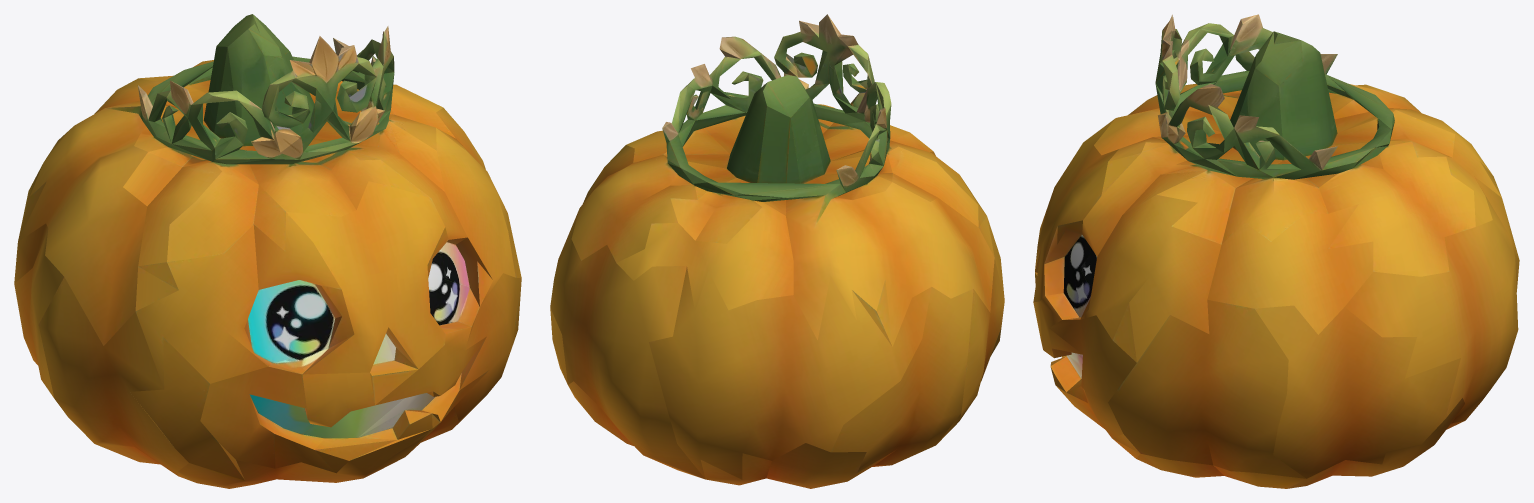
Rendered from magic_pumpkin.glb.
The picture shows the model from 3 angles, left to right: view 1: azimuth 30°, elevation 25°; view 2: azimuth 150°, elevation 25°; view 3: azimuth 270°, elevation 25°; orthographic projection. The views are drawn at different scales.
Size of the model in its own units: 1.9 by 1.79 by 1.88.
1 material, 1 textured.
